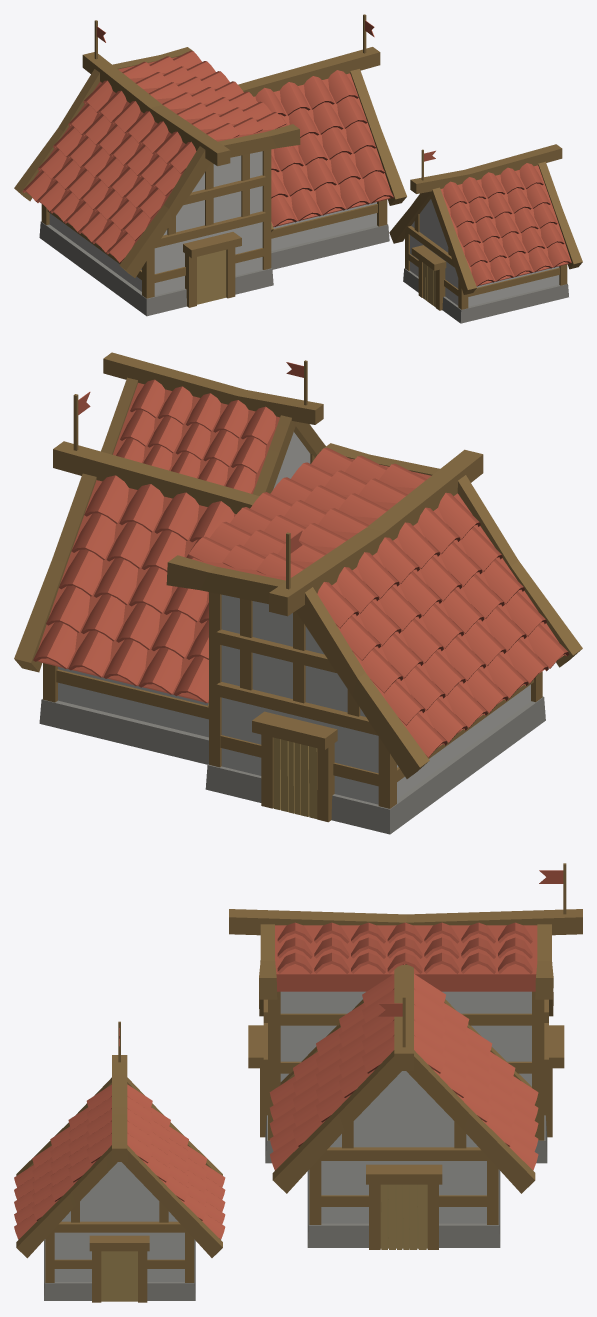
File: Houses_SecondAge_2_Level3.glb
3 views of the same model, one above another, from view 1: azimuth 30°, elevation 25°; view 2: azimuth 150°, elevation 25°; view 3: azimuth 270°, elevation 25° (orthographic). The views are drawn at different scales.
Parts seen in each view (by area): view 1: Houses_SecondAge_2_Level3; view 2: Houses_SecondAge_2_Level3; view 3: Houses_SecondAge_2_Level3.
Boxes of the visible parts, x1,y1,x2,y2 form: Houses_SecondAge_2_Level3: (14, 14, 582, 323); Houses_SecondAge_2_Level3: (14, 352, 582, 834); Houses_SecondAge_2_Level3: (14, 863, 582, 1302).
Bounding box in the file's own units: 1.92 × 0.9536 × 1.88.
Materials: 1 (1 with a texture image).
